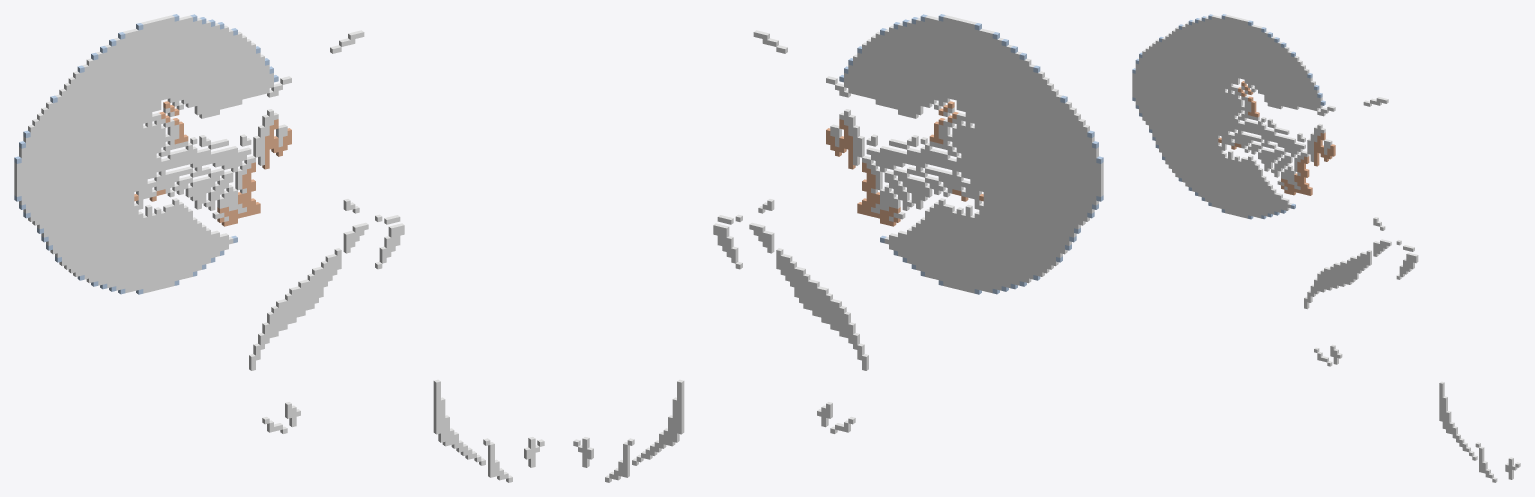
File: Fight_028_2_10_fx.obj
3 views of the same model, side by side, from view 1: azimuth 30°, elevation 25°; view 2: azimuth 150°, elevation 25°; view 3: azimuth 330°, elevation 25° (orthographic). The views are drawn at different scales.
Size of the model in its own units: 11.7 by 11.6 by 0.1.
